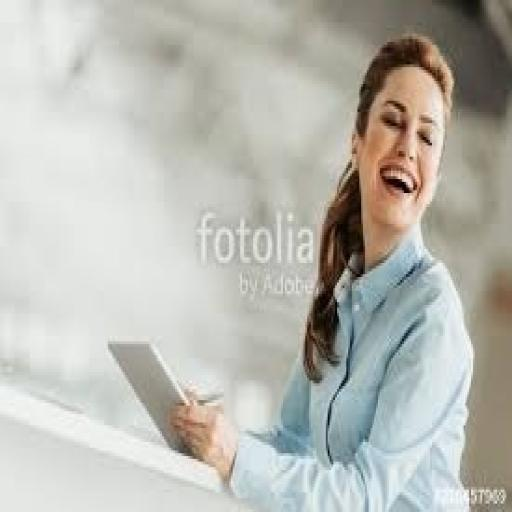laughing: (164, 28, 478, 506)
